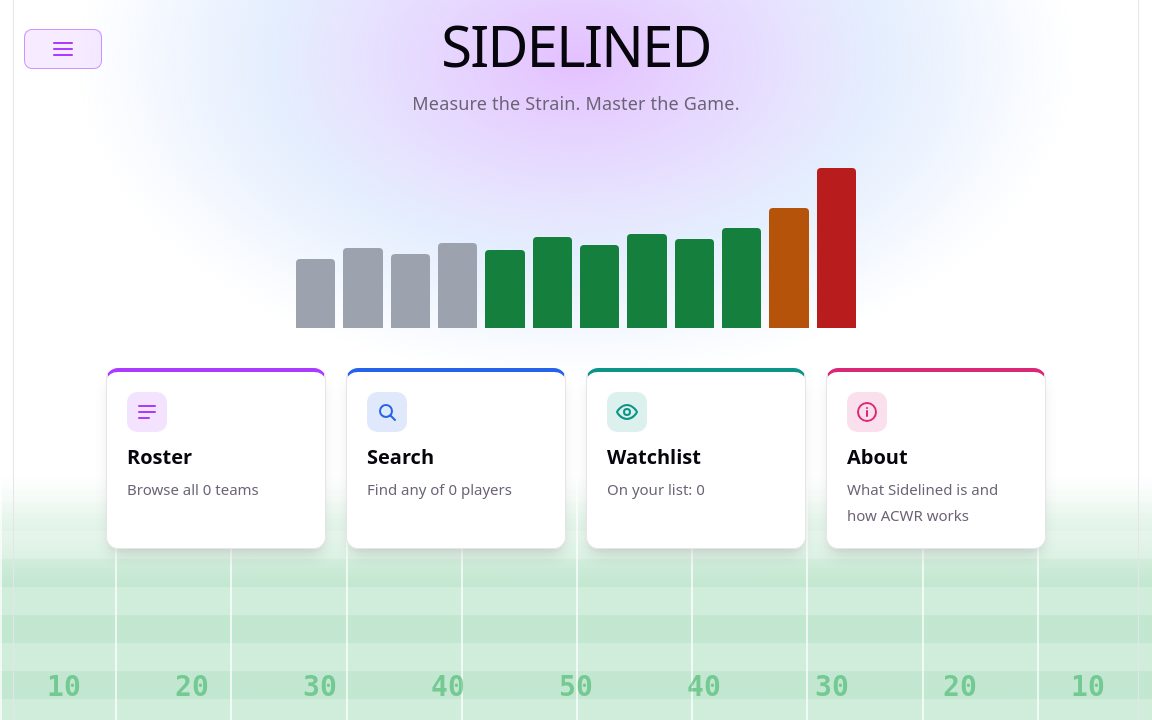
homepage navigation › renders a Search item in the nav menu that navigates to the Search Players page
Click the button named "Toggle navigation menu" at (63, 49), box [24, 29, 102, 69]
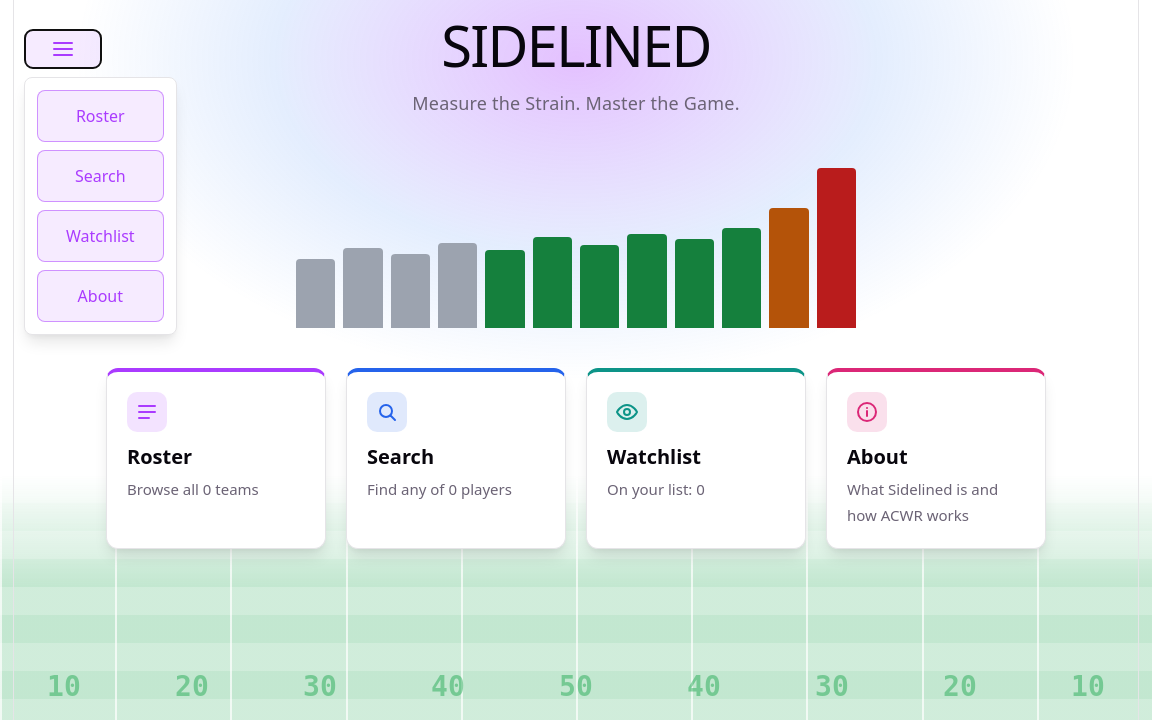
Click the menu item "Search" at (100, 176), box [37, 150, 164, 202]
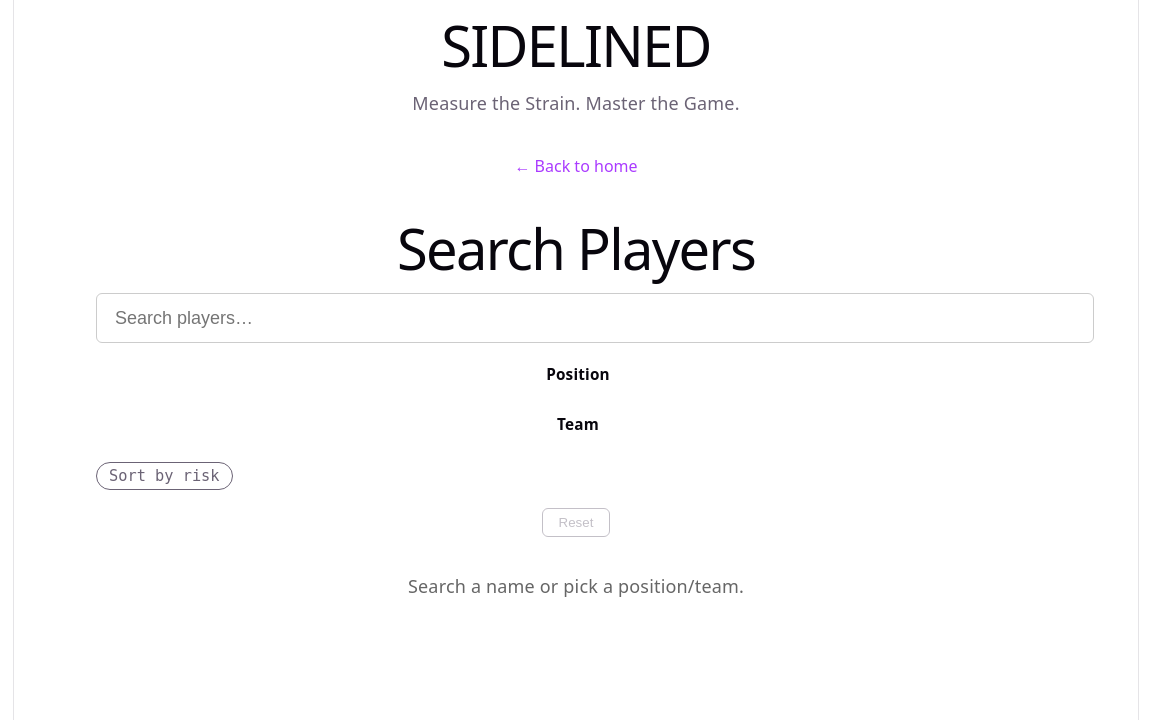
expect the heading "Search Players" is shown: met, box [397, 210, 755, 286]
